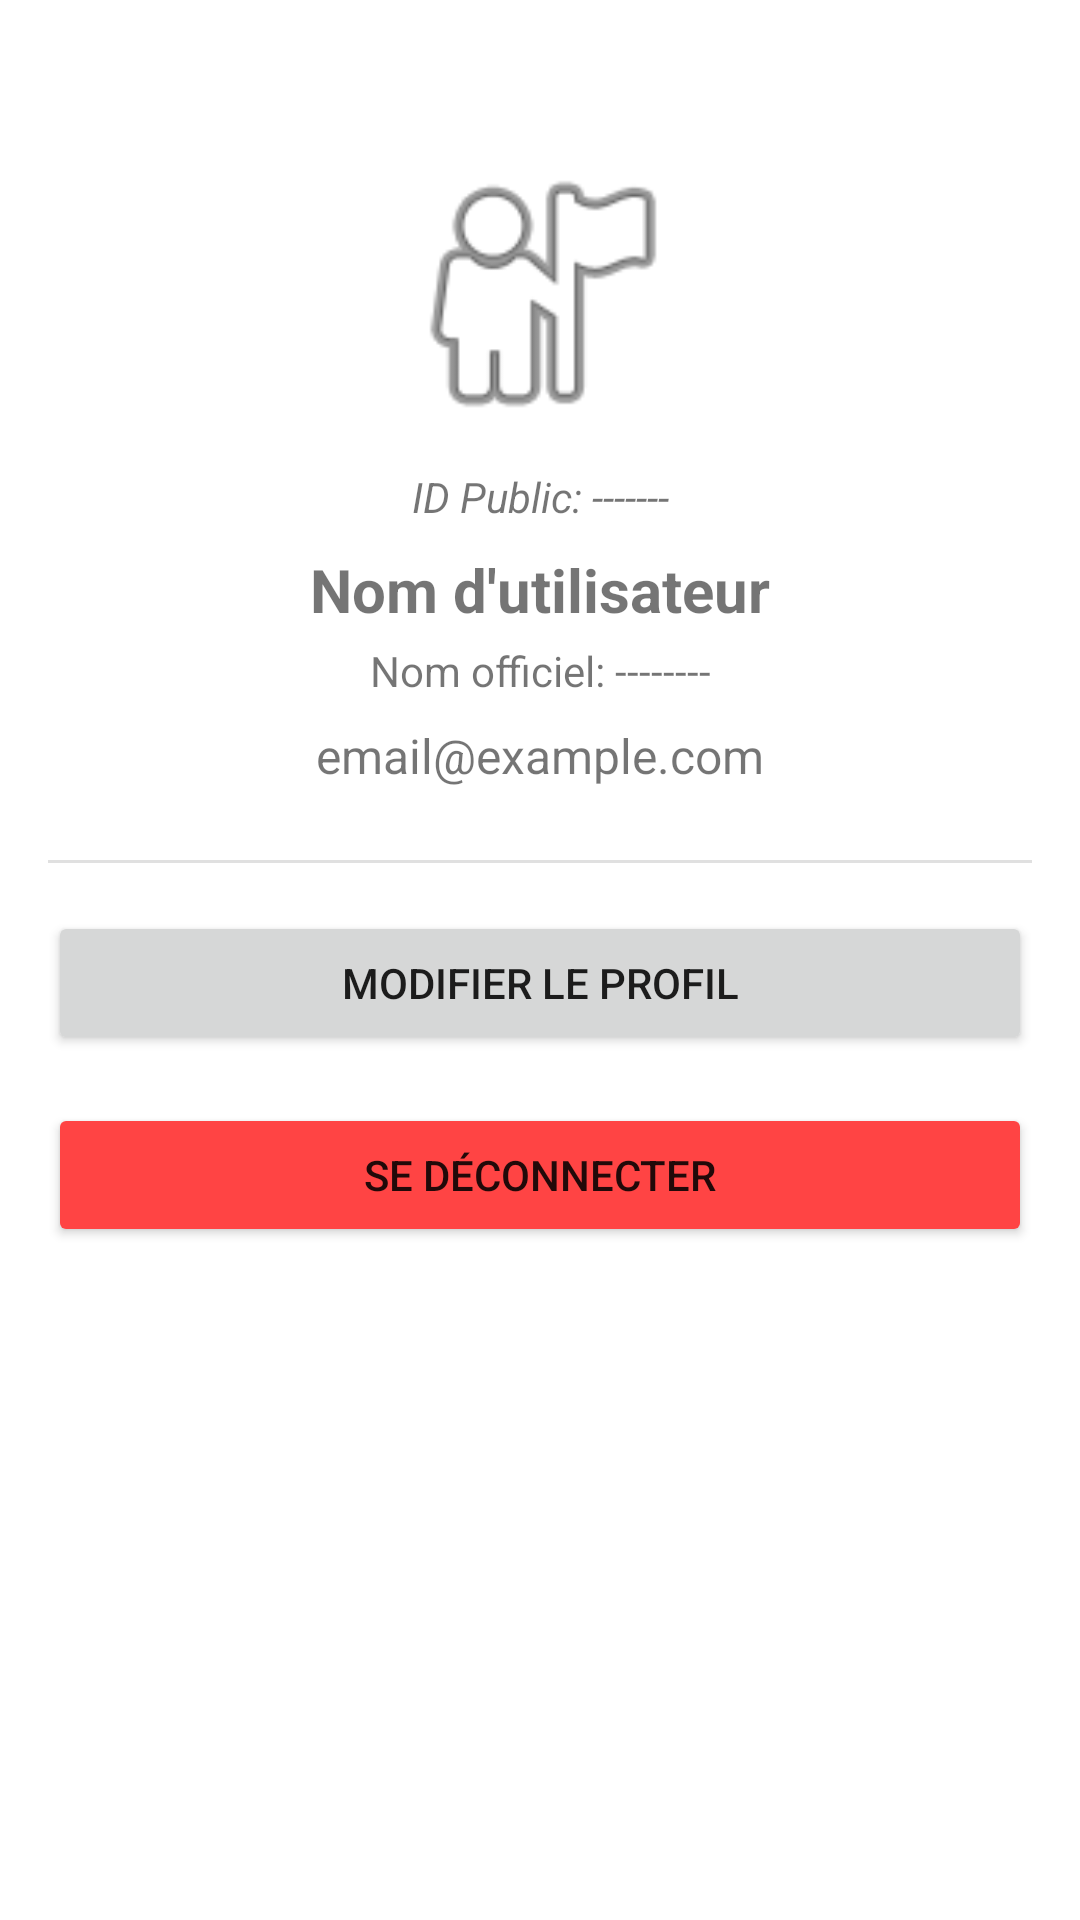

Where icons sit on this 1080*1920 app screen, as (x1, y1, x2, y2):
Photo de profil: (430, 182, 656, 406)
